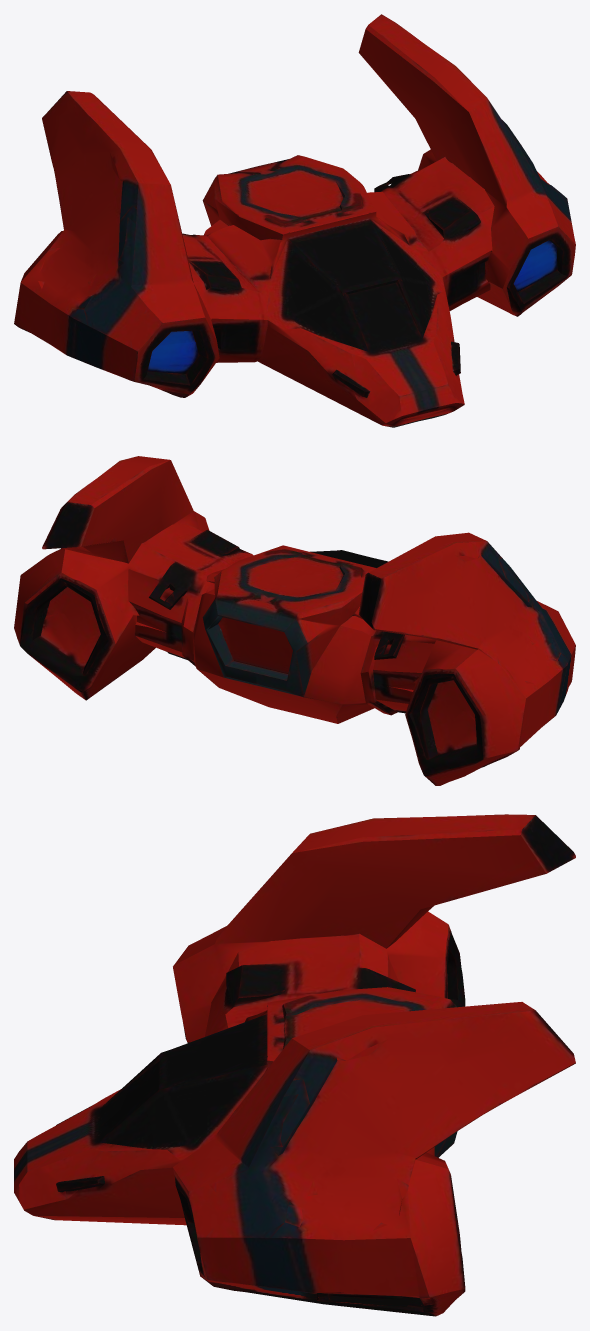
3 views of the same model, one above another, from view 1: azimuth 30°, elevation 25°; view 2: azimuth 150°, elevation 25°; view 3: azimuth 270°, elevation 25° (orthographic). The views are drawn at different scales.
Visible parts, largest first — view 1: world; view 2: world; view 3: world.
Boxes of the visible parts, x1,y1,x2,y2 form: world: [14, 14, 575, 427]; world: [14, 456, 575, 785]; world: [14, 814, 575, 1316].
Size of the model in its own units: 1 by 0.4421 by 0.7585.
1 material, 1 textured.
